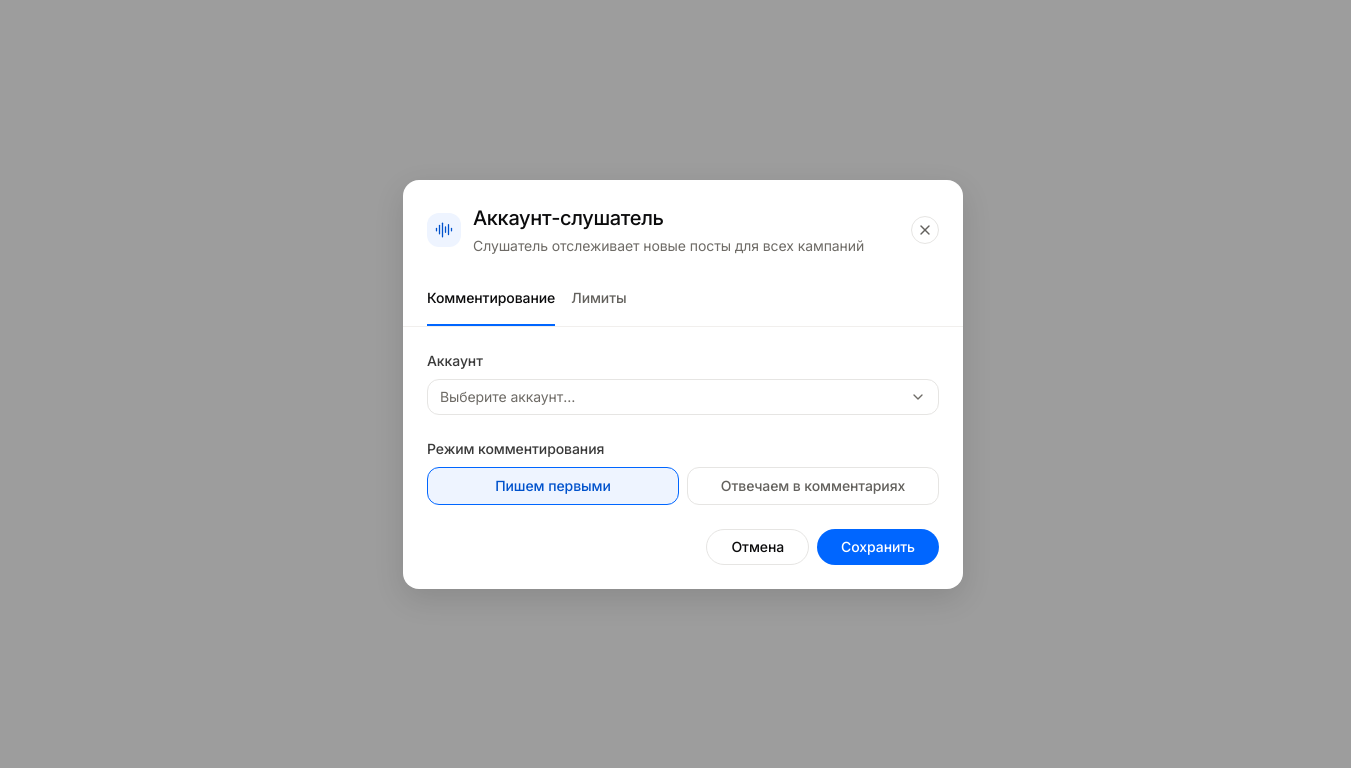
Test: opens the dropdown, picks an option, saves with swap and closes
The image size is (1366, 768).
Expected: the heading "Аккаунт-слушатель" is shown, [473,206,664,230]
Note: open the custom dropdown and pick the second option
What coordinates should you click on to do the following:
click the dropdown "Выберите аккаунт…"
I would click on:
 (508, 396)
Its box is [427,378,939,414].
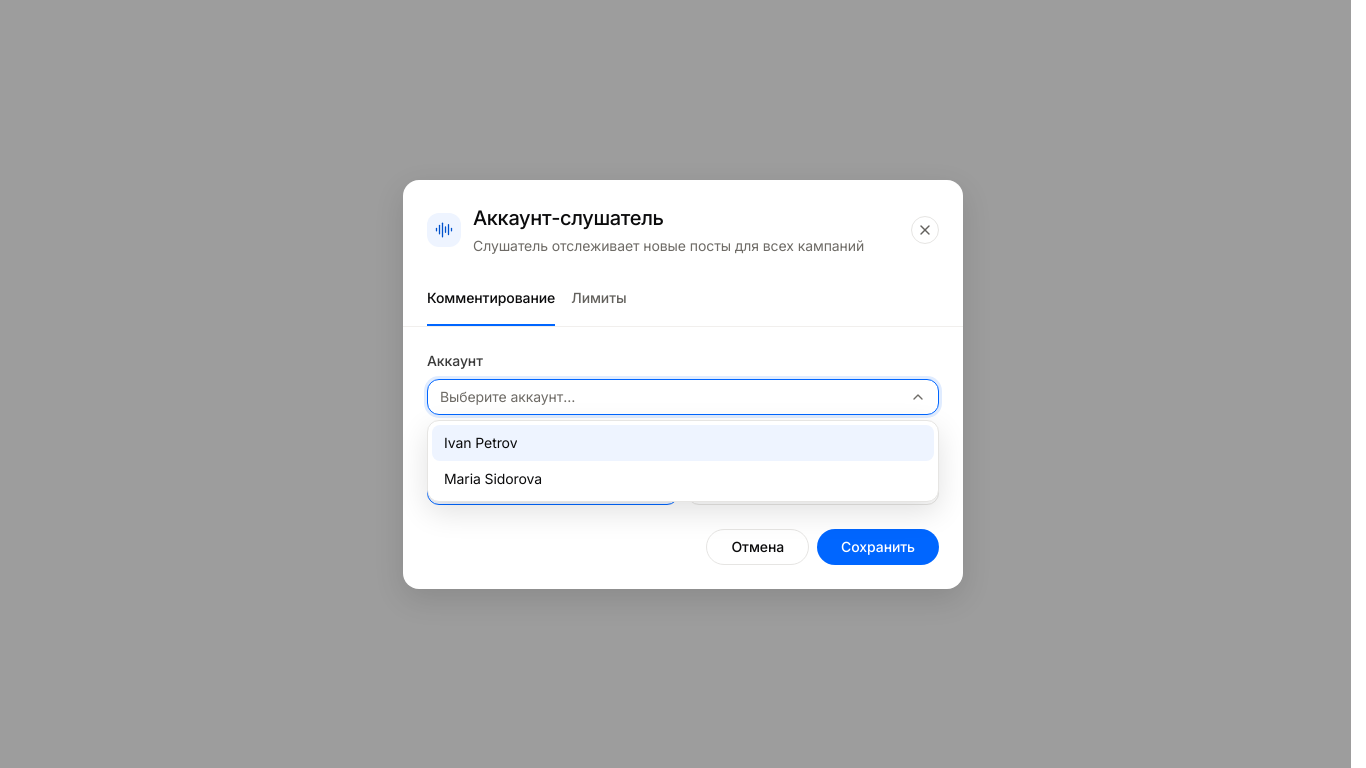
What coordinates should you click on to do the following:
click the option "Maria Sidorova"
I would click on:
 (493, 478)
Its box is [432,460,934,496].
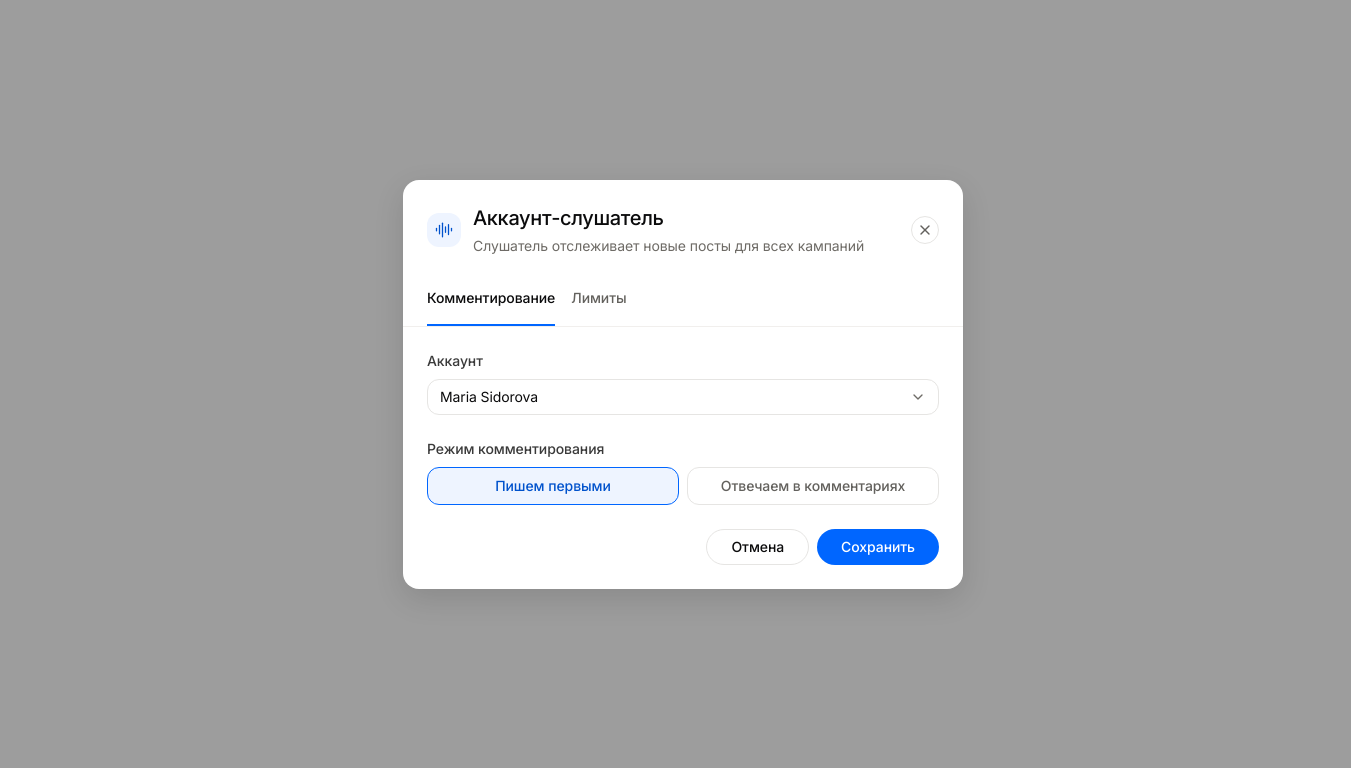
What coordinates should you click on to do the following:
click the button "Сохранить"
I would click on:
 (878, 546)
Its box is [817,528,939,564].
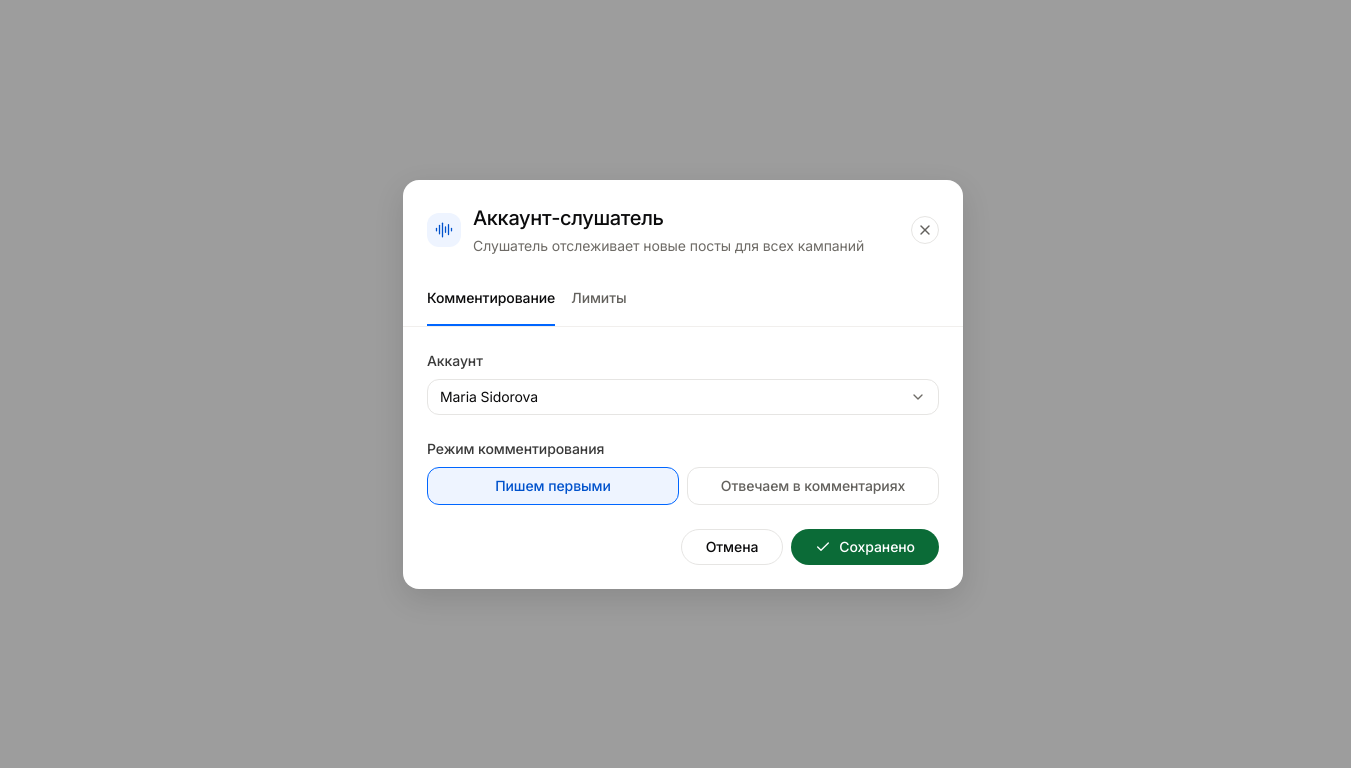
Expected: the text "Сохранено" is shown, [839,536,915,556]
